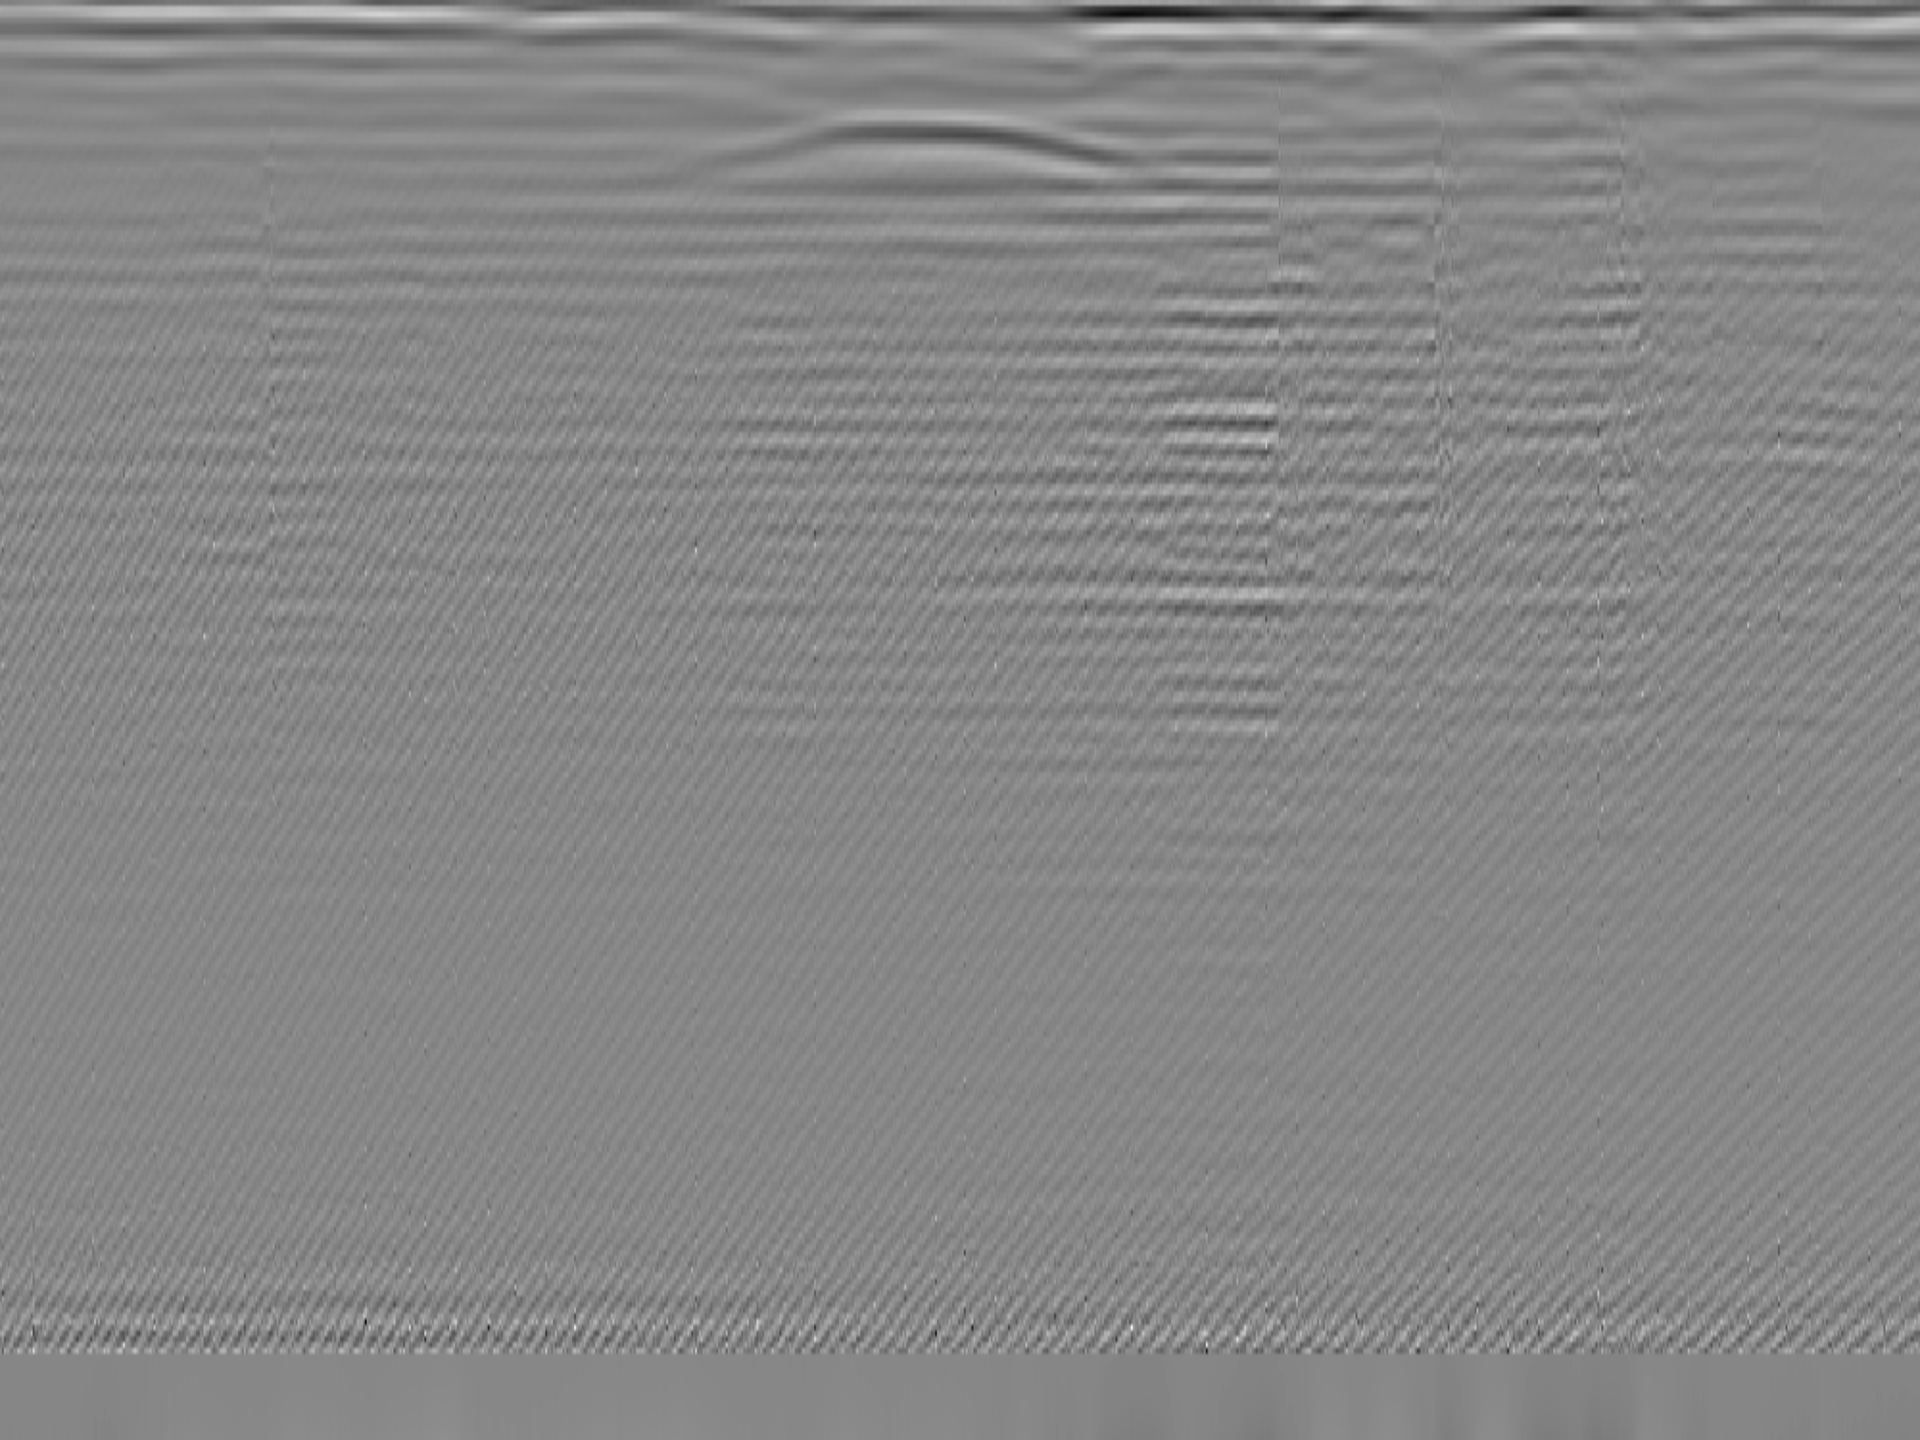Tunnel: (643, 109, 1146, 178)
